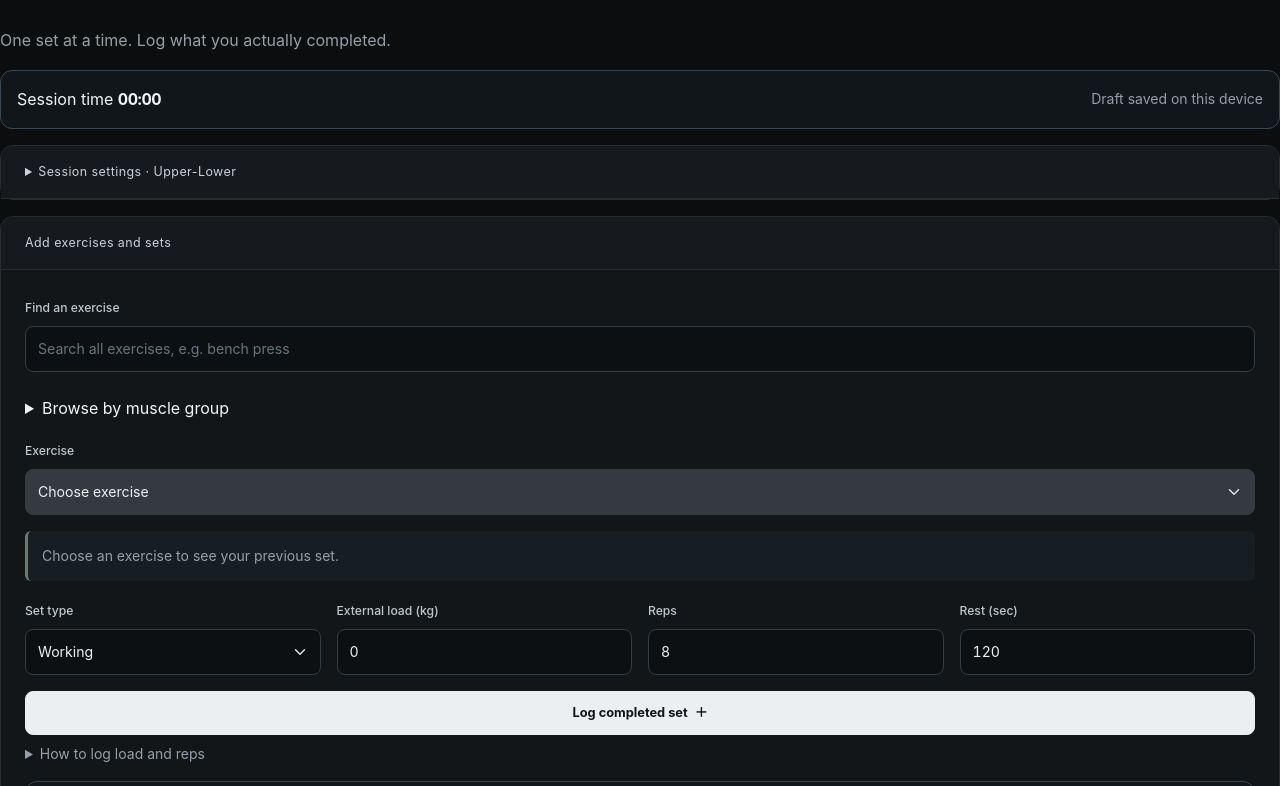
Scenario: workout logger › starts a cardio set from the last one and logs its duration and effort
Type "rowing" into the search field labelled "Find an exercise". click: (640, 349)
box: top-left (25, 326), bottom-right (1255, 372)
Then press Enter
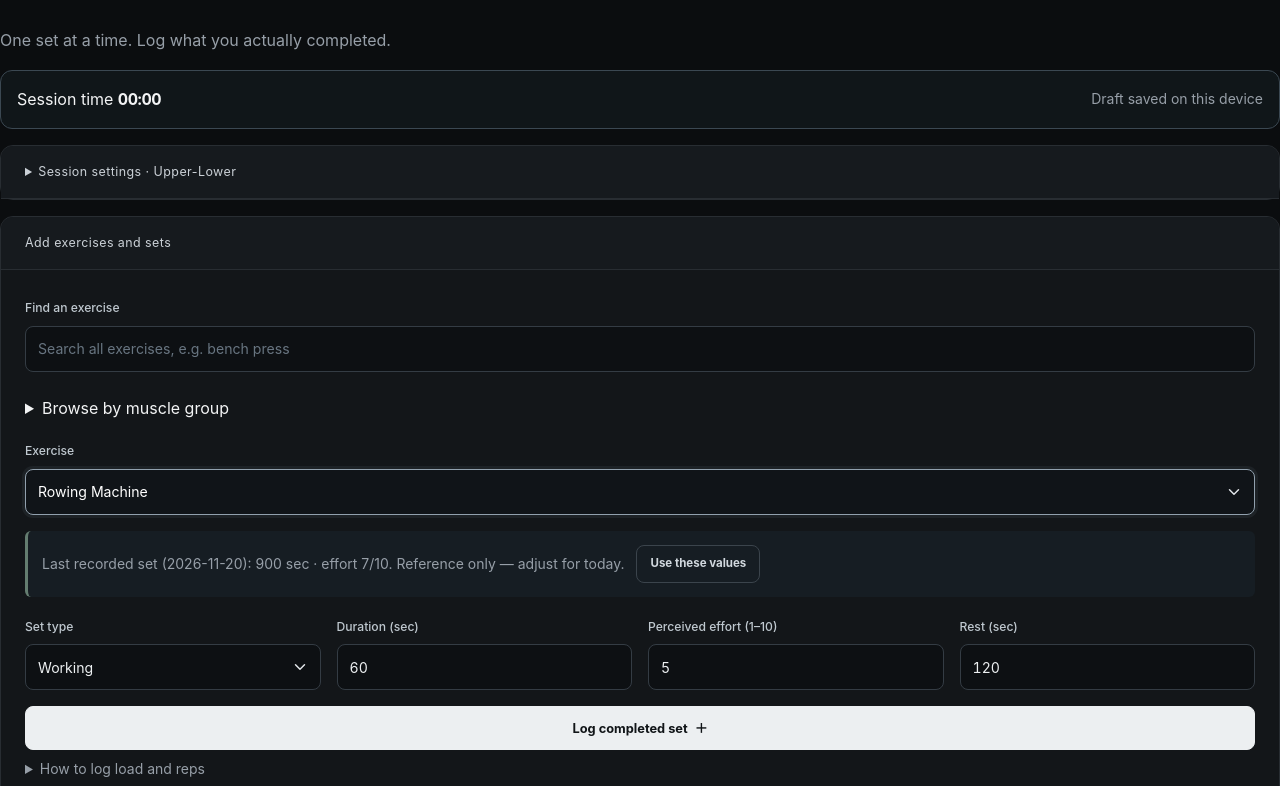
Now the text "Last recorded set (2026-11-20): 900 sec · effort 7/10. Reference only — adjust for today." is shown, box top-left (42, 555), bottom-right (624, 572)
Now the label labelled "External load (kg)" is gone
Click the button "Use these values". click: click(698, 564)
box: top-left (636, 545), bottom-right (760, 583)
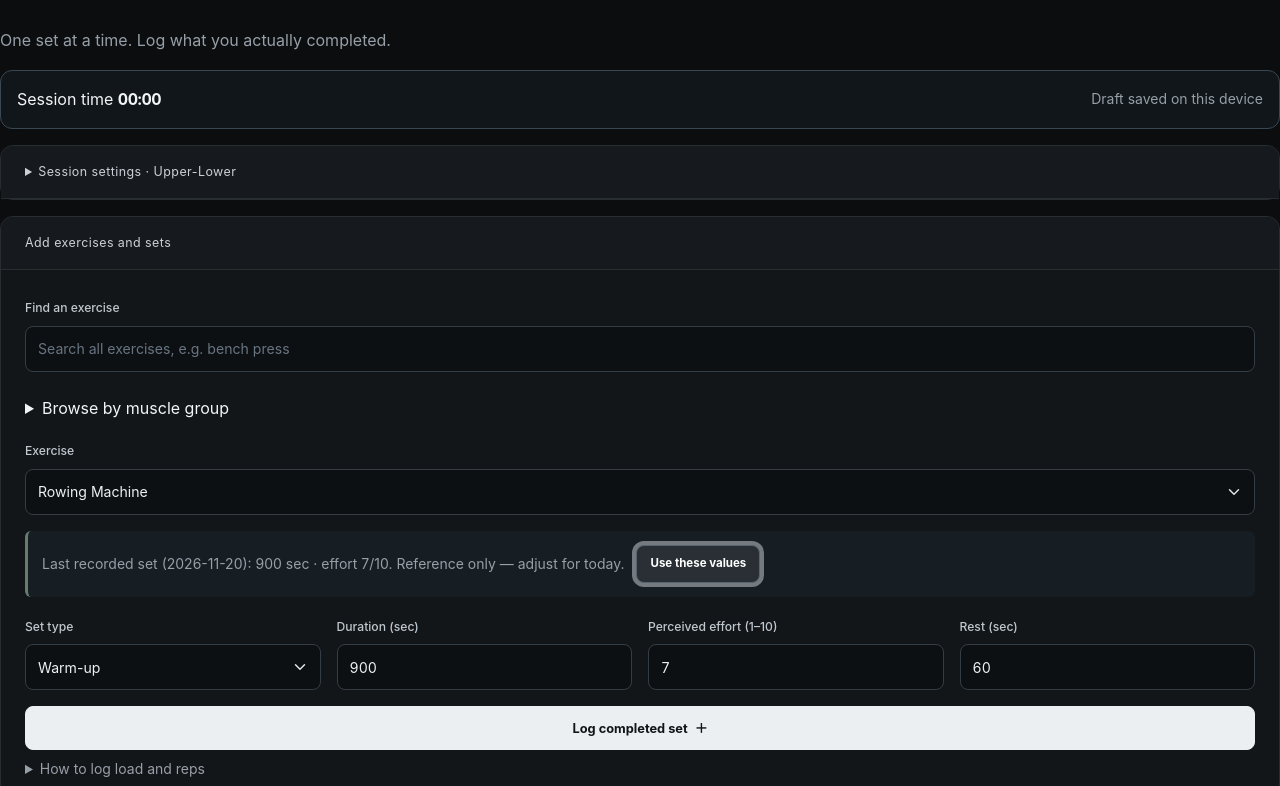
Now the number field labelled "Duration (sec)" holds "900", box top-left (336, 644), bottom-right (632, 690)
Now the dropdown labelled "Set type" shows "Warm-up"
Select "Working" in the dropdown labelled "Set type". click: (173, 667)
box: top-left (25, 644), bottom-right (320, 690)
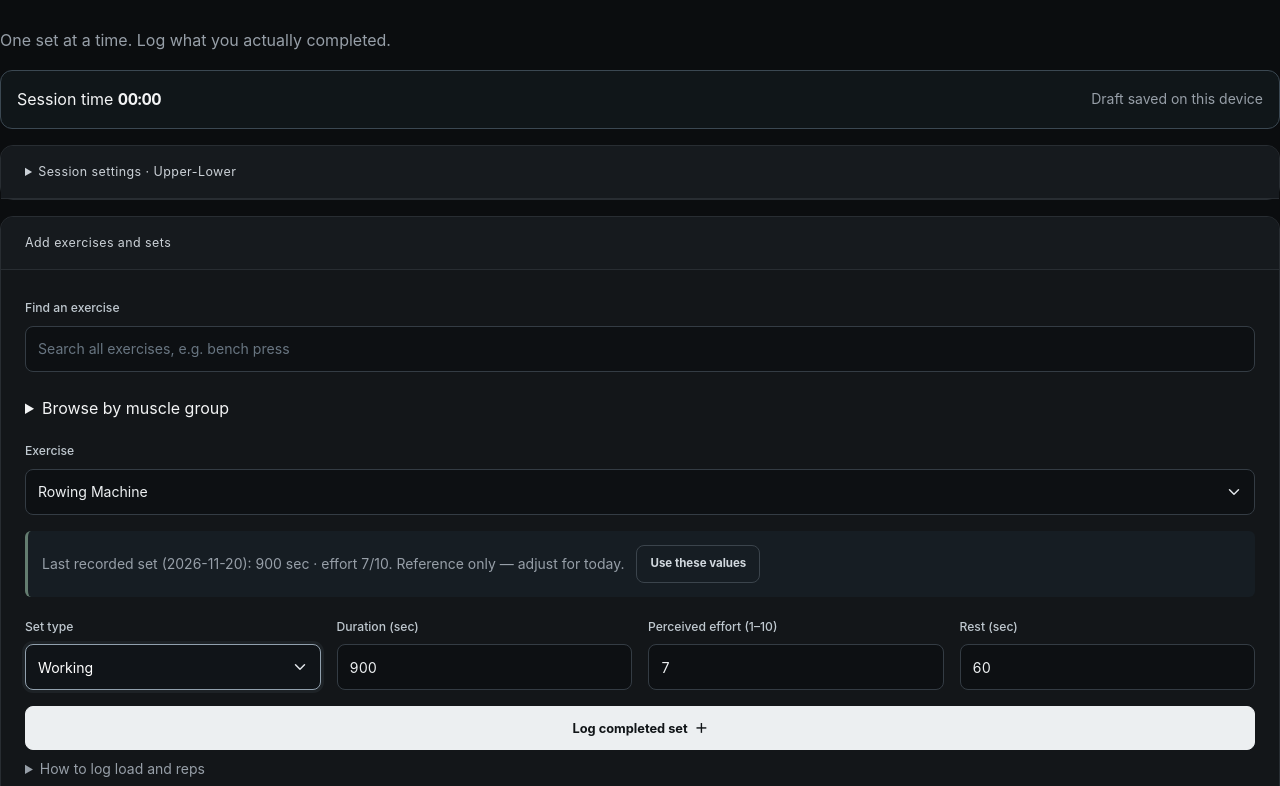
Replace the text in the number field labelled "Perceived effort (1–10)" with "8". click: (796, 667)
box: top-left (648, 644), bottom-right (944, 690)
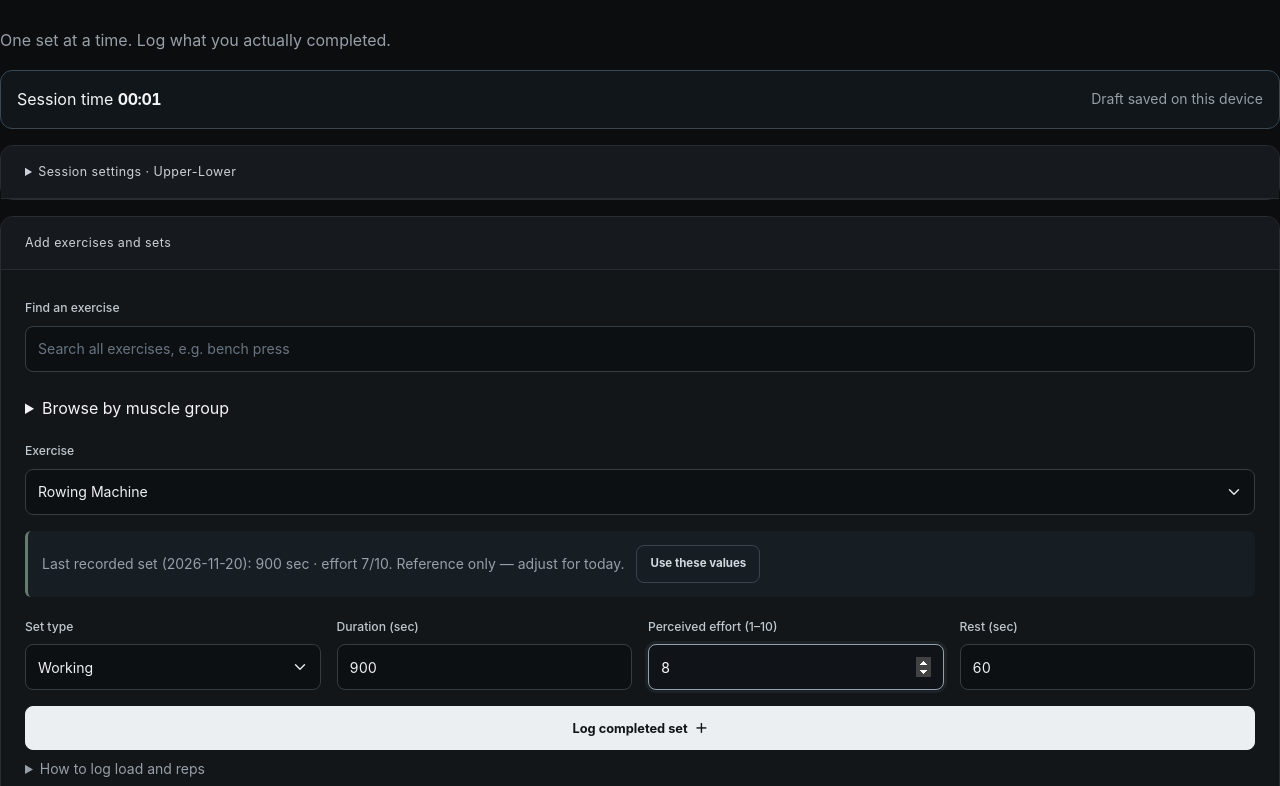
Click the button "Log completed set ＋". click: click(640, 728)
box: top-left (25, 706), bottom-right (1255, 750)
(page scrolled)
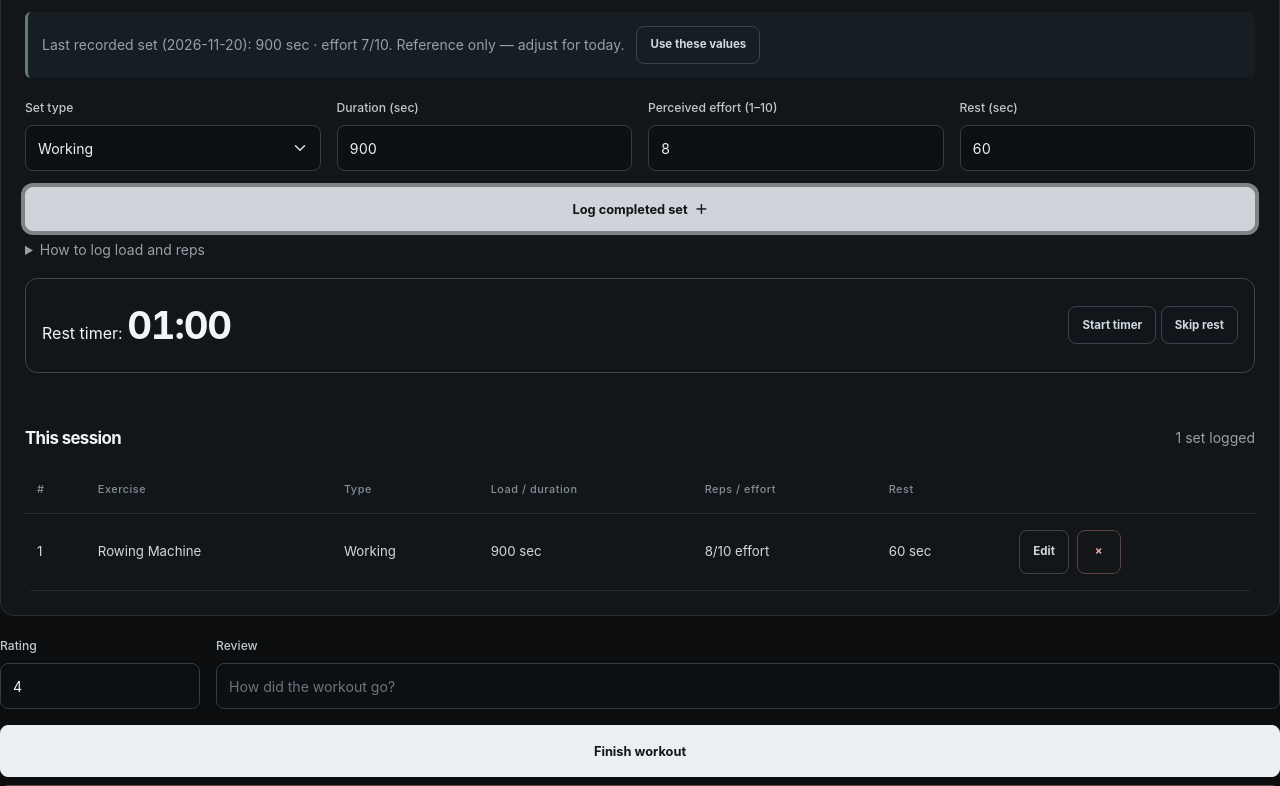
Now the cell "Rowing Machine" is shown, box top-left (86, 513), bottom-right (332, 590)
